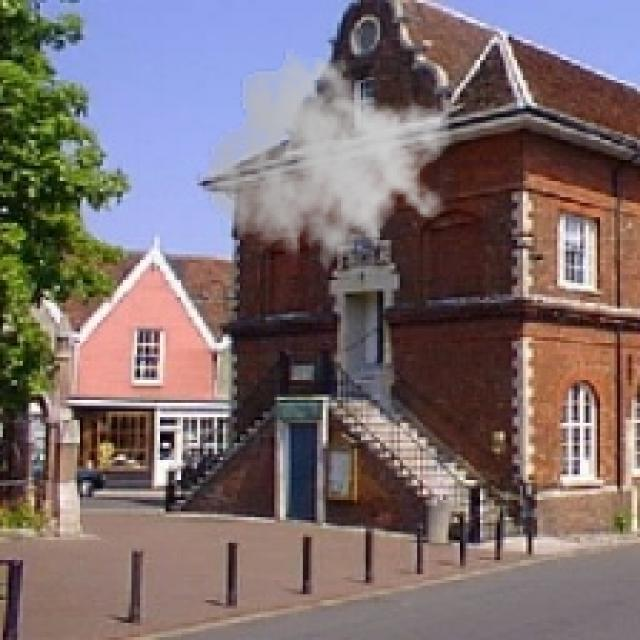smoke: (206, 43, 454, 283)
